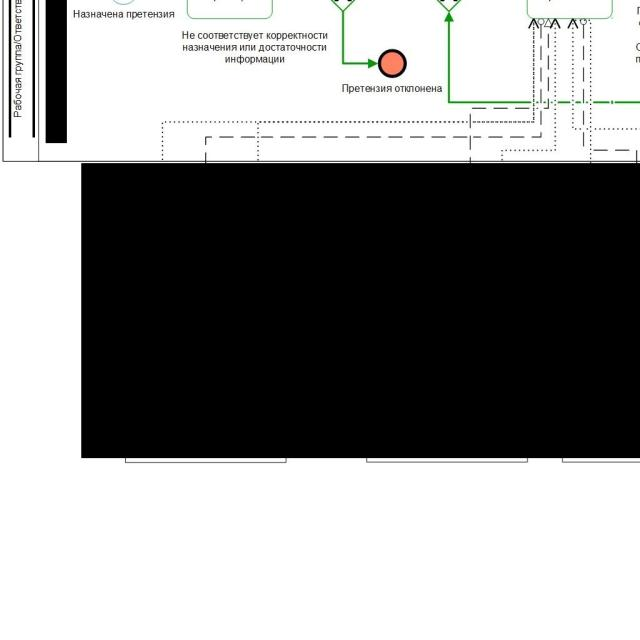arrow: (340, 11, 378, 68)
circle: (379, 50, 406, 78)
text_region: (181, 30, 328, 66), (73, 9, 175, 20), (342, 83, 443, 94)
